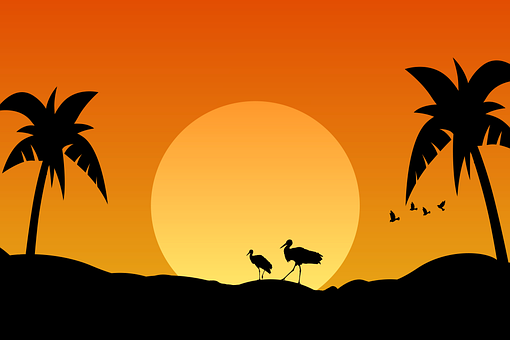tree: (402, 52, 510, 278), (9, 85, 95, 253)
